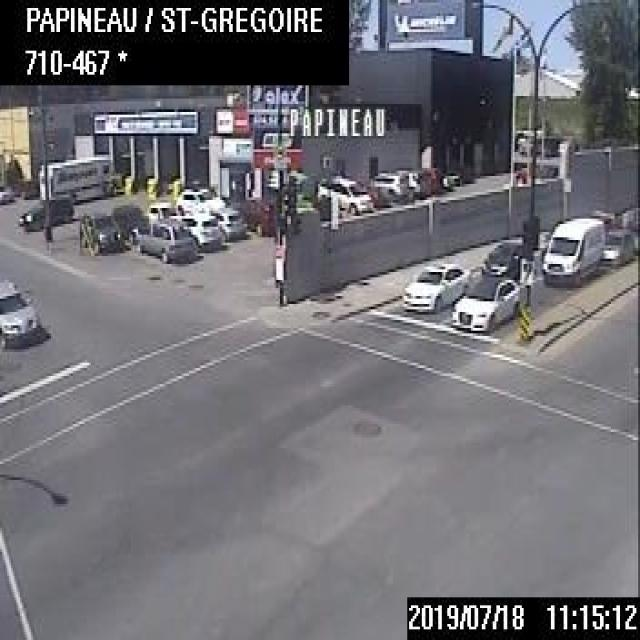vehicle: (534, 211, 606, 285), (450, 272, 521, 331), (39, 156, 123, 199), (398, 258, 471, 306), (133, 214, 197, 264), (0, 266, 36, 344), (478, 233, 528, 280), (315, 172, 372, 212), (18, 194, 72, 228), (78, 212, 123, 252), (187, 211, 223, 251), (176, 184, 225, 213), (602, 225, 634, 264), (214, 206, 247, 240), (374, 170, 410, 198), (145, 200, 175, 217)
